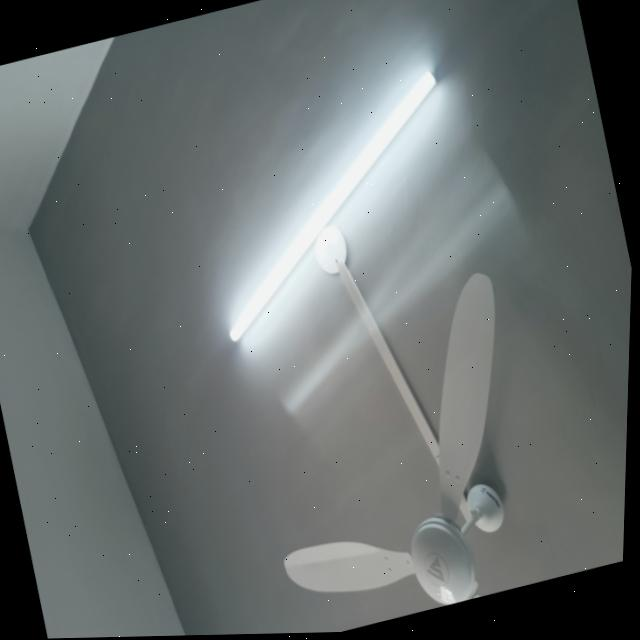light_on: (171, 52, 492, 355)
